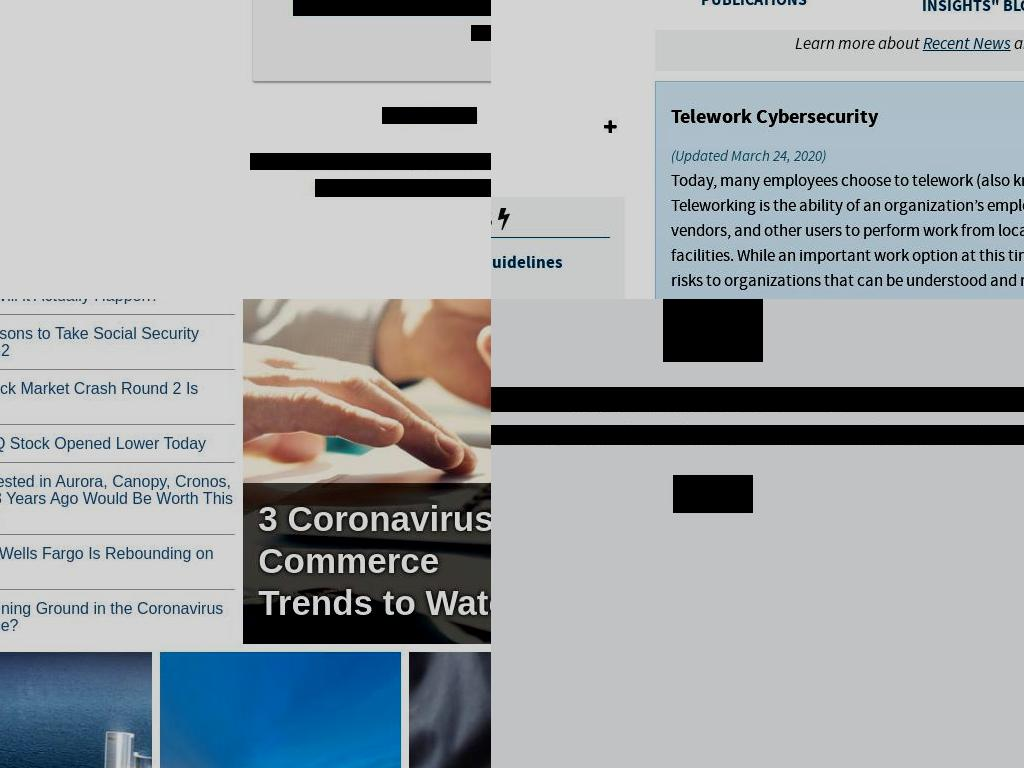button: (243, 299, 491, 644), (160, 652, 401, 768), (0, 652, 153, 768), (0, 463, 236, 534), (0, 315, 236, 369), (0, 370, 236, 424), (0, 535, 236, 589), (0, 590, 236, 644), (408, 652, 491, 768), (0, 425, 236, 462), (491, 28, 626, 69), (491, 68, 626, 109), (491, 108, 626, 149), (491, 0, 626, 29), (0, 299, 236, 314), (673, 475, 753, 513), (471, 25, 491, 41)
field: (293, 0, 491, 16)
heading: (258, 498, 491, 624), (671, 102, 879, 131), (893, 0, 1024, 17), (681, 0, 828, 10)
image: (243, 299, 491, 644), (160, 652, 401, 768), (0, 652, 153, 768), (408, 652, 491, 768), (663, 299, 763, 362), (315, 179, 491, 197)
link: (922, 33, 1011, 55), (491, 250, 563, 274), (382, 107, 477, 124)
text: (671, 170, 1024, 292), (491, 387, 1024, 412), (491, 425, 1024, 445), (250, 153, 491, 170), (673, 475, 753, 513), (671, 147, 827, 166), (794, 33, 923, 55), (595, 108, 626, 149), (1010, 33, 1024, 55)
